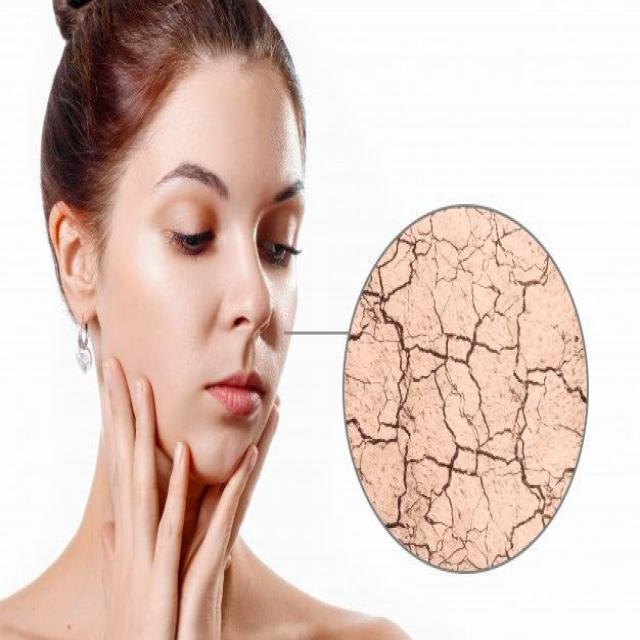Dry-Skin: (342, 202, 594, 580)
